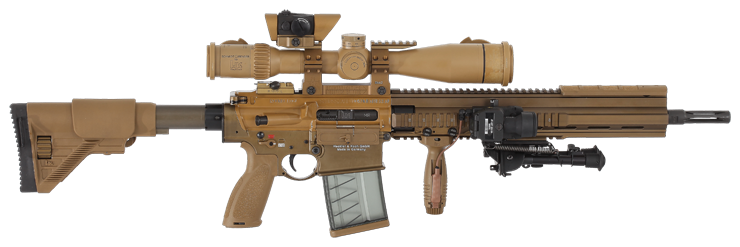Arma Real: (15, 6, 730, 230)
